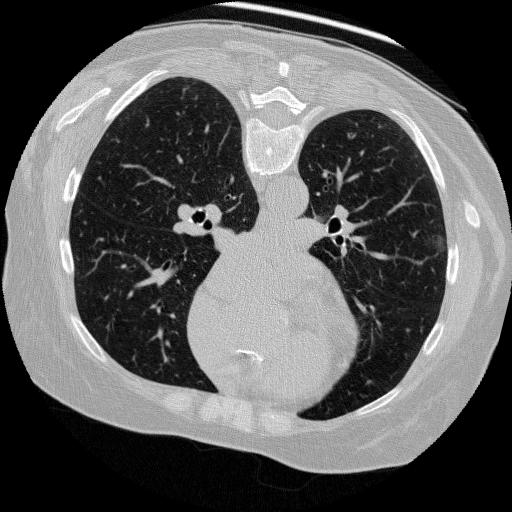nodule: (422, 231, 449, 258)
